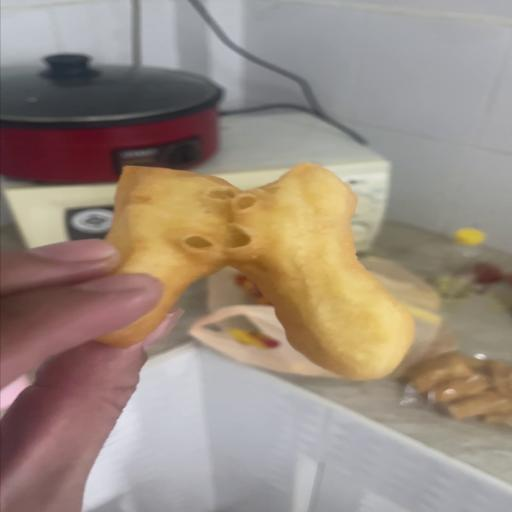street_golden_defect: (100, 163, 414, 380)
